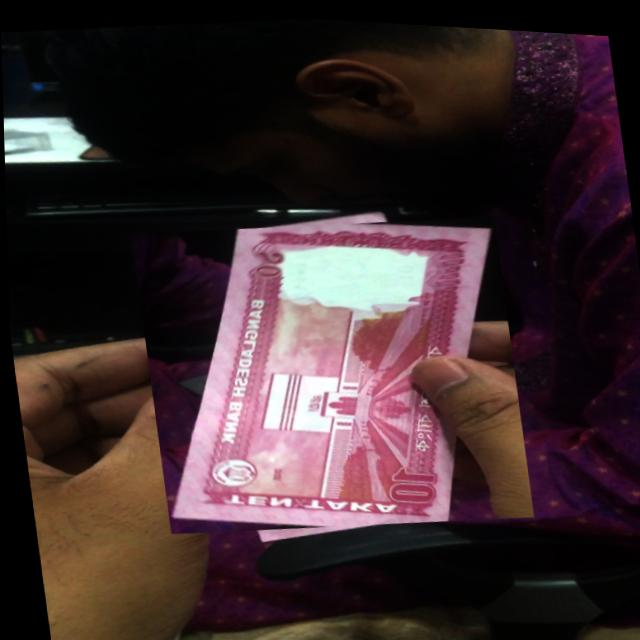Taka: (129, 194, 532, 549)
